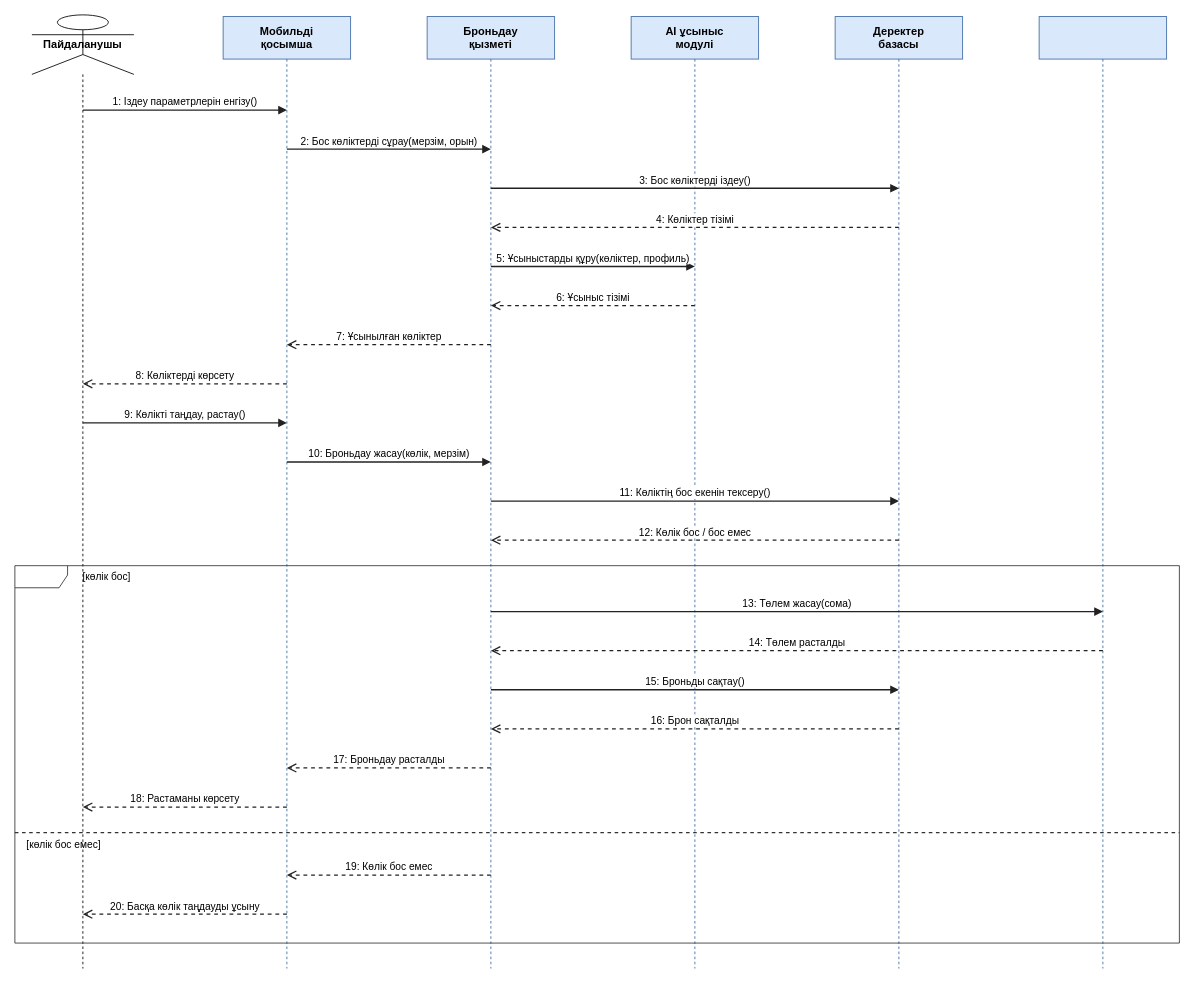
Some shapes in this 1196 by 983 pixel diagram are drawn without their labels. Here are the shapes that lost their labels. From the top down, the box of each, then its label:
(1038, 16, 1167, 969): Төлем шлюзі
(14, 565, 1179, 943): alt
